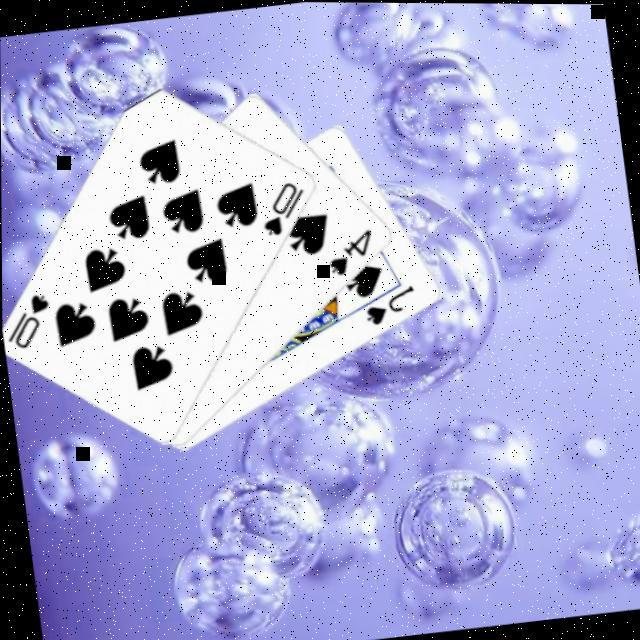10S: (255, 176, 313, 241), (2, 290, 59, 355)
4S: (322, 225, 380, 280)
JS: (360, 282, 422, 331)
